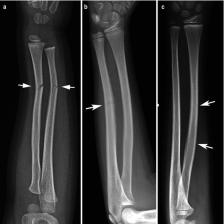greenstick-fracture: (10, 0, 212, 224)
